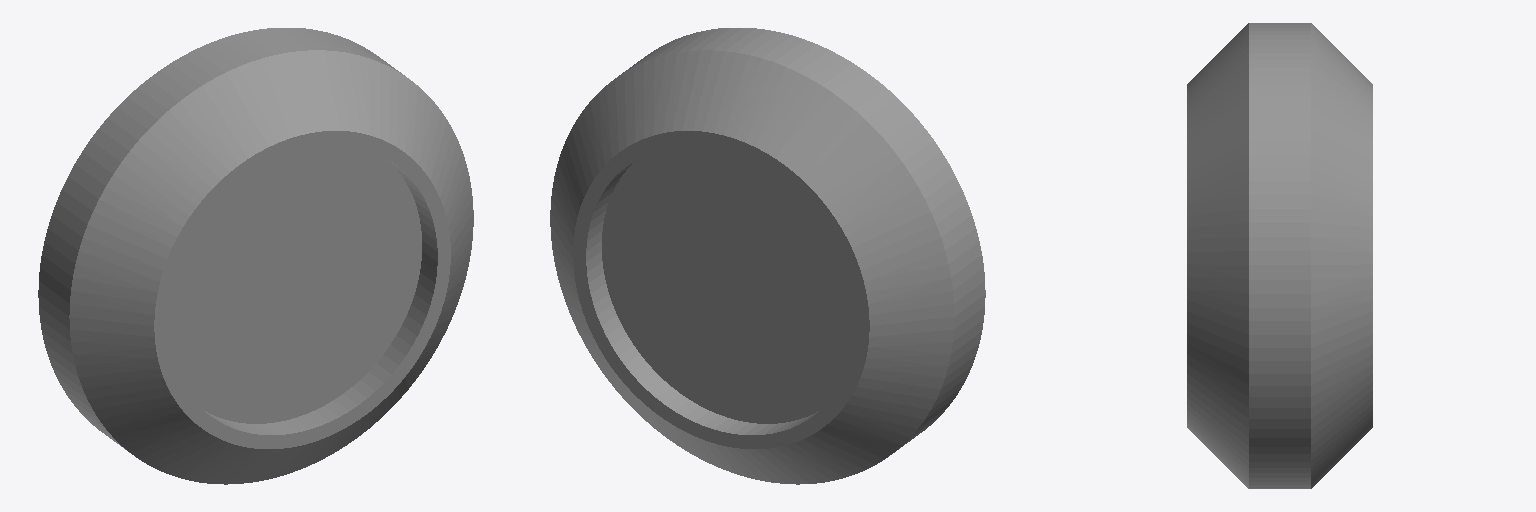
The model's file is ShipWheelUV.obj.
3 renders of one model, left to right at view 1: azimuth 30°, elevation 25°; view 2: azimuth 150°, elevation 25°; view 3: azimuth 270°, elevation 25°, orthographic.
Parts seen in each view (by area): view 1: ShipWheel; view 2: ShipWheel; view 3: ShipWheel.
Boxes of the visible parts, <box> form: ShipWheel: <box>38,28,473,484</box>; ShipWheel: <box>550,28,985,484</box>; ShipWheel: <box>1187,23,1372,488</box>.
Bounding box in the file's own units: 75.13 × 75.13 × 30.